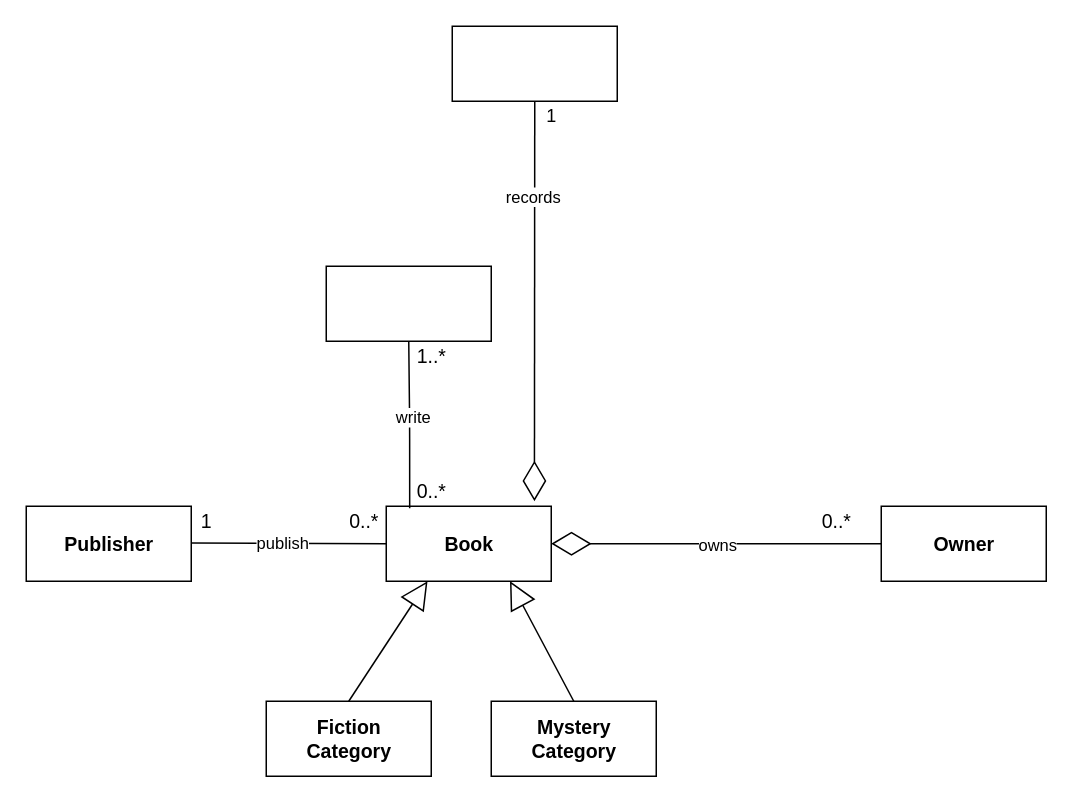
This 1073x803 diagram has some shape labels left out. Here are the shapes that lost their labels. From the top down, the centre of each, then its label:
[534,63]: Library
[408,303]: Author
